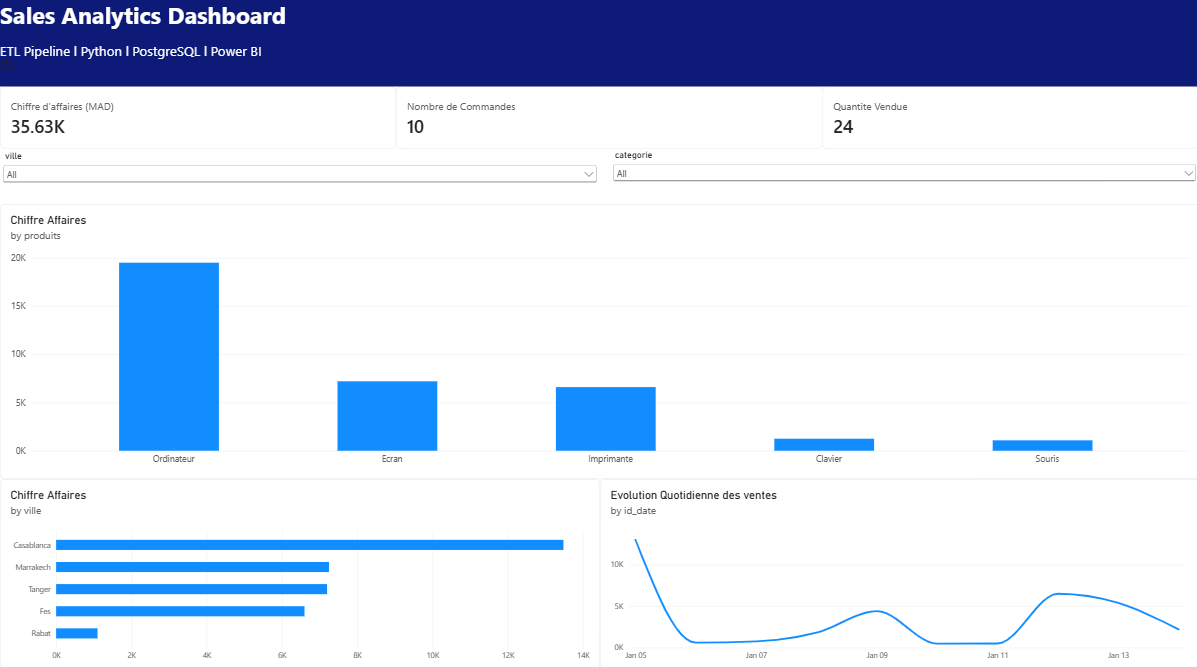

This screenshot's page, from the dashboard's own definition file:
{"tool":"powerbi","page":{"name":"Page 1","canvas":[1920,1080],"ordinal":0},"visuals":[{"type":"cardVisual","fields":{"Data":["Sum(warehouse fait_ventes.chiffre_affaires)"]},"box":[0,140,634,100],"z":0},{"type":"cardVisual","fields":{"Data":["warehouse fait_ventes.Nombre Commandes"]},"box":[634,140,682,100],"z":1},{"type":"cardVisual","fields":{"Data":["warehouse fait_ventes.Quantite Vendue"]},"box":[1316,140,604,100],"z":2},{"type":"clusteredColumnChart","fields":{"Category":["warehouse dim_produit.produit"],"Y":["warehouse fait_ventes.Chiffre Affaires"]},"box":[0,328,1920,440],"z":3},{"type":"slicer","fields":{"Values":["warehouse dim_ville.ville"]},"box":[0,242,960,86],"z":4},{"type":"slicer","fields":{"Values":["warehouse dim_produit.categorie"]},"box":[976,240,944,88],"z":5},{"type":"clusteredBarChart","fields":{"Category":["warehouse dim_ville.ville"],"Y":["warehouse fait_ventes.Chiffre Affaires"]},"box":[0,768,960,312],"z":6},{"type":"lineChart","fields":{"Category":["warehouse dim_date.id_date"],"Y":["warehouse fait_ventes.Chiffre Affaires"]},"box":[960,768,960,312],"z":7},{"type":"textbox","box":[0,0,1920,140],"z":8}]}

Visuals, with their boxes in screenshot pixels (x1, y1, x2, y2), scaled from the page's 1920x1080 canvas onto the 1197x667 screenshot:
cardVisual - Sum(warehouse fait_ventes.chiffre_affaires): l=0, t=86, r=395, b=148
cardVisual - warehouse fait_ventes.Nombre Commandes: l=395, t=86, r=820, b=148
cardVisual - warehouse fait_ventes.Quantite Vendue: l=820, t=86, r=1196, b=148
clusteredColumnChart - warehouse dim_produit.produit x warehouse fait_ventes.Chiffre Affaires: l=0, t=203, r=1196, b=474
slicer - warehouse dim_ville.ville: l=0, t=149, r=598, b=203
slicer - warehouse dim_produit.categorie: l=608, t=148, r=1196, b=203
clusteredBarChart - warehouse dim_ville.ville x warehouse fait_ventes.Chiffre Affaires: l=0, t=474, r=598, b=666
lineChart - warehouse dim_date.id_date x warehouse fait_ventes.Chiffre Affaires: l=598, t=474, r=1196, b=666
textbox: l=0, t=0, r=1196, b=86
